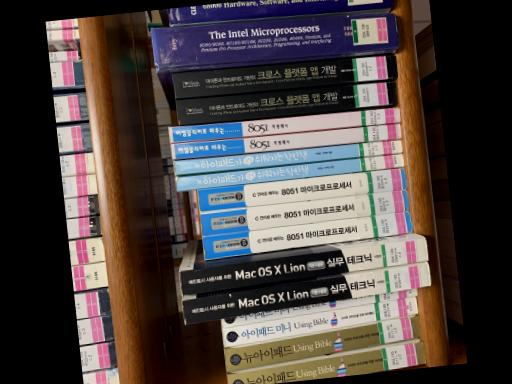book-spine: (182, 260, 431, 323), (179, 236, 428, 294), (150, 11, 399, 66), (224, 314, 420, 371), (202, 210, 412, 258), (222, 295, 418, 346), (172, 53, 397, 97), (200, 188, 409, 235), (175, 80, 397, 123), (198, 166, 407, 211), (227, 339, 426, 384), (175, 152, 403, 189), (170, 121, 401, 157), (174, 138, 402, 174), (221, 286, 417, 327), (170, 106, 399, 141), (167, 0, 392, 26)
